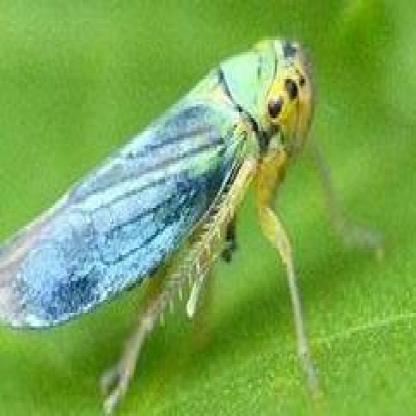Green-Leafhopper: (0, 30, 382, 416)
